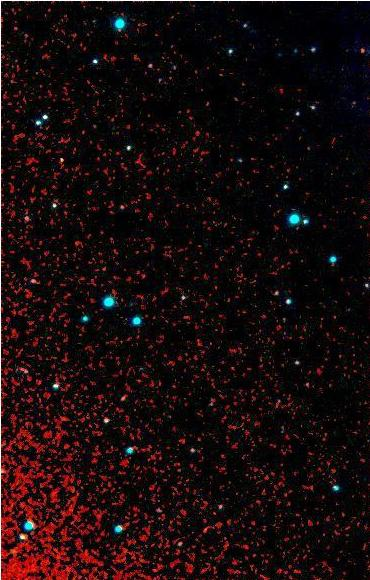star: (349, 39, 370, 69)
